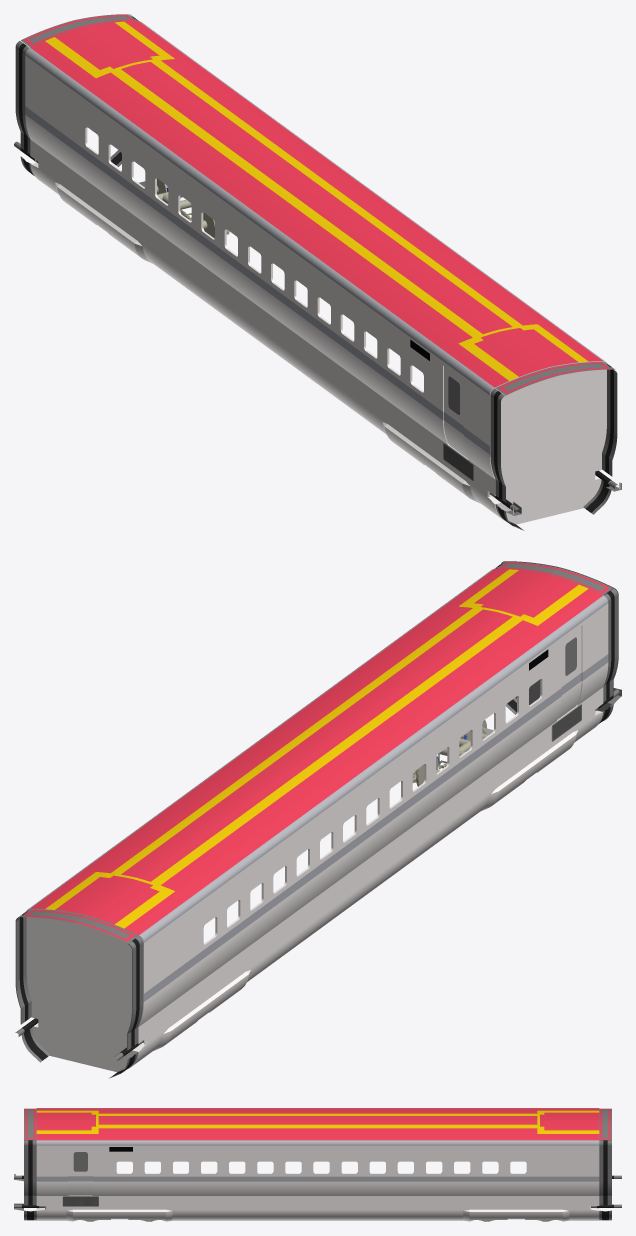
File: JR-E6-simple-car4.glb
3 views of the same model, one above another, from view 1: azimuth 30°, elevation 25°; view 2: azimuth 150°, elevation 25°; view 3: azimuth 270°, elevation 25° (orthographic). The views are drawn at different scales.
Parts seen in each view (by area): view 1: コンポーネント#1, Component#6, Component#6.001, Group#15; view 2: コンポーネント#1, Component#6.001, Component#6, Group#15, root; view 3: コンポーネント#1, Component#6, Component#6.001, Group#15.001.
Boxes of the visible parts, x1,y1,x2,y2 form: コンポーネント#1: (25, 21, 607, 524); Component#6: (490, 362, 617, 530); Component#6.001: (15, 14, 138, 175); Group#15: (444, 365, 467, 458); コンポーネント#1: (26, 569, 608, 1072); Component#6.001: (15, 909, 143, 1078); Component#6: (494, 562, 617, 723); Group#15: (557, 626, 581, 719); root: (501, 561, 621, 721); コンポーネント#1: (36, 1108, 599, 1221); Component#6: (24, 1108, 36, 1220); Component#6.001: (599, 1108, 611, 1220); Group#15.001: (68, 1147, 93, 1195).
Bounding box in the file's own units: 2.95 × 3.67 × 21.62.
16 materials, 2 textured.
